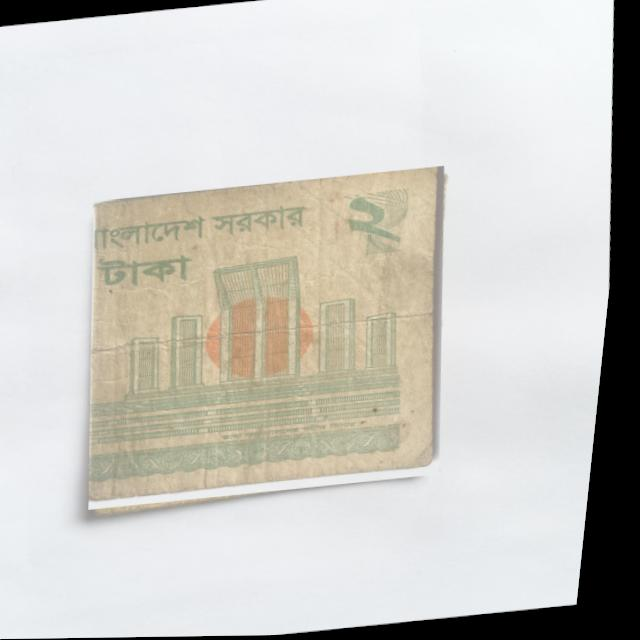Taka: (72, 166, 475, 510)
